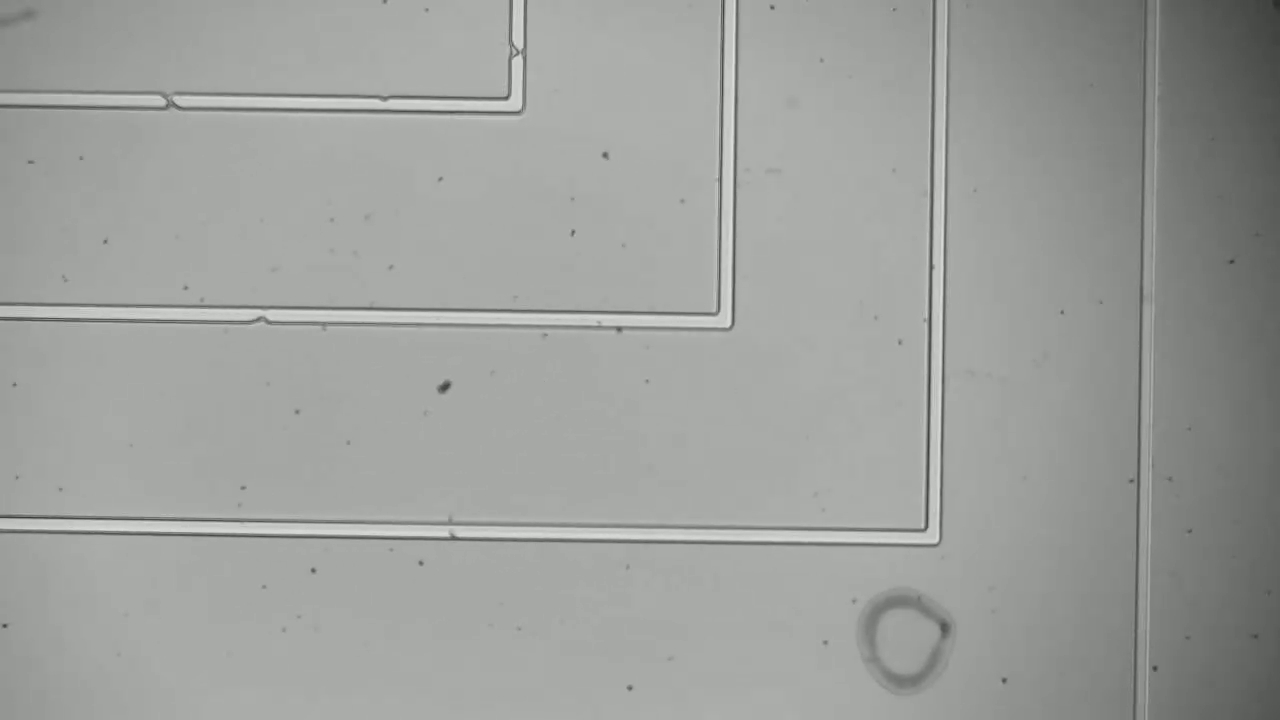edge_bite: (501, 32, 536, 66), (244, 301, 278, 331)
open: (151, 80, 190, 117)
